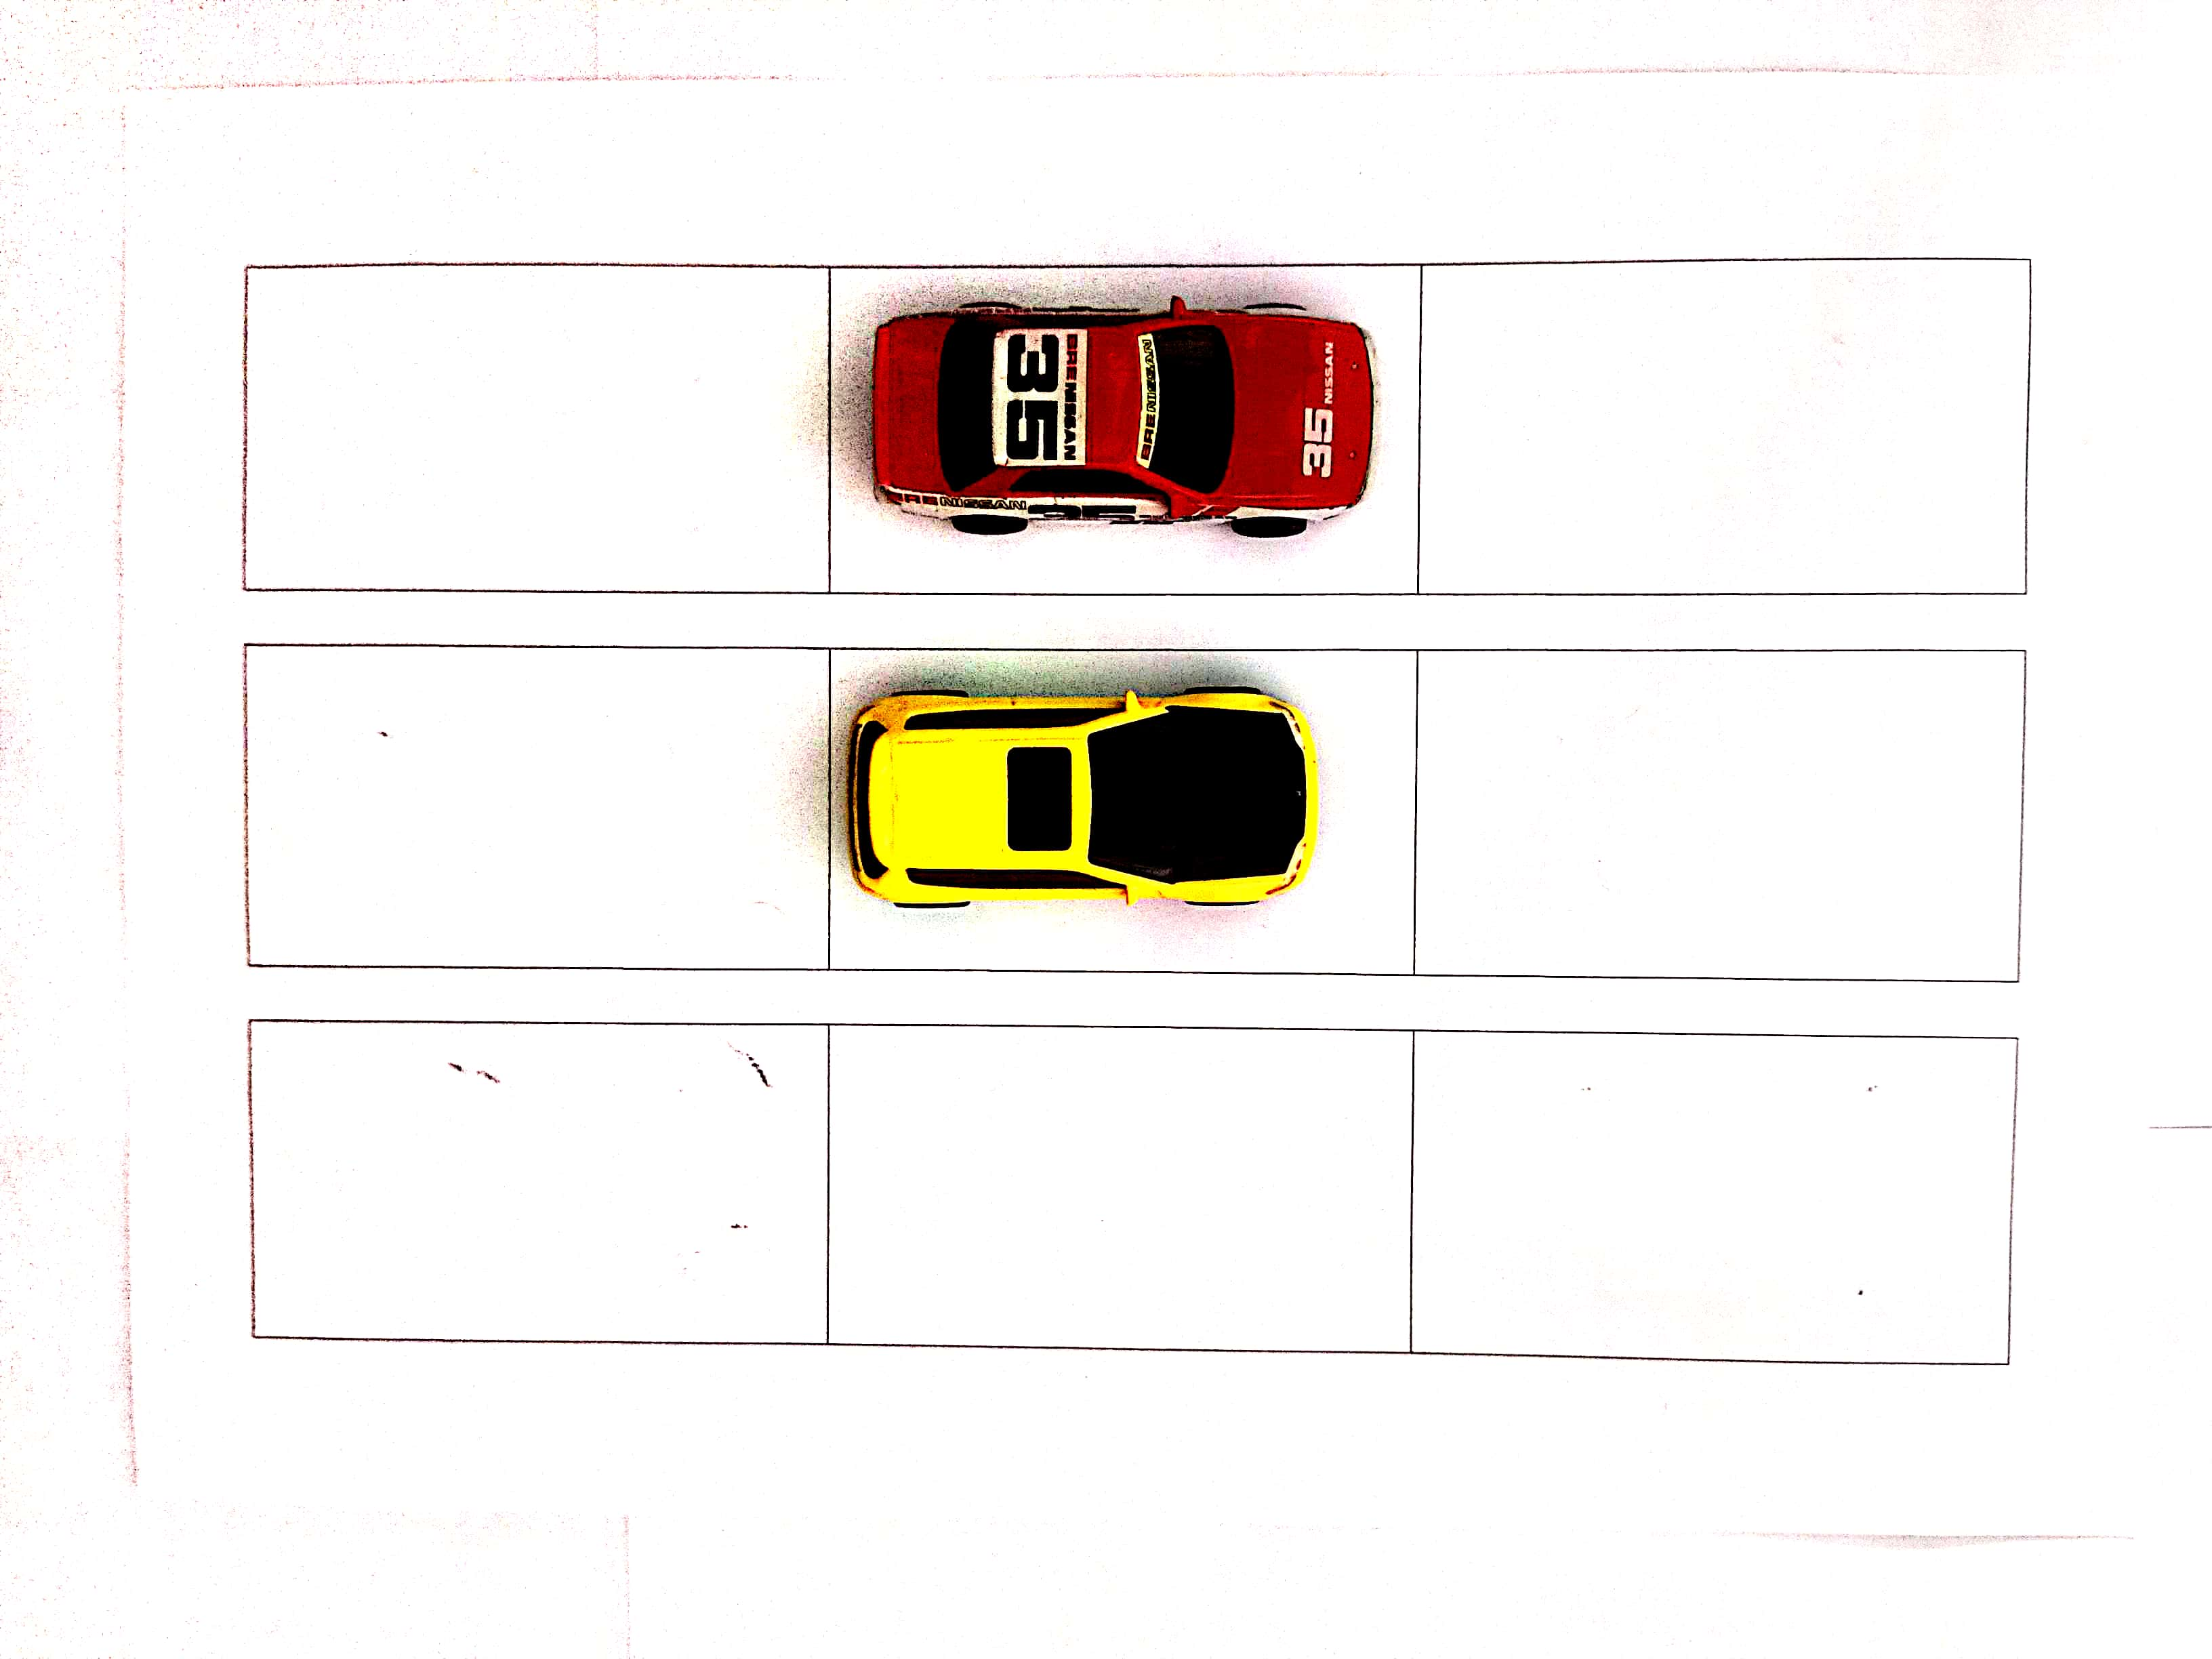Busy: (829, 272, 1414, 594), (827, 650, 1421, 967)
Free: (1414, 643, 2027, 979), (1418, 263, 2026, 589), (1409, 1033, 2013, 1358), (244, 265, 824, 594), (253, 1021, 834, 1342), (244, 645, 824, 960), (833, 1030, 1409, 1345)
